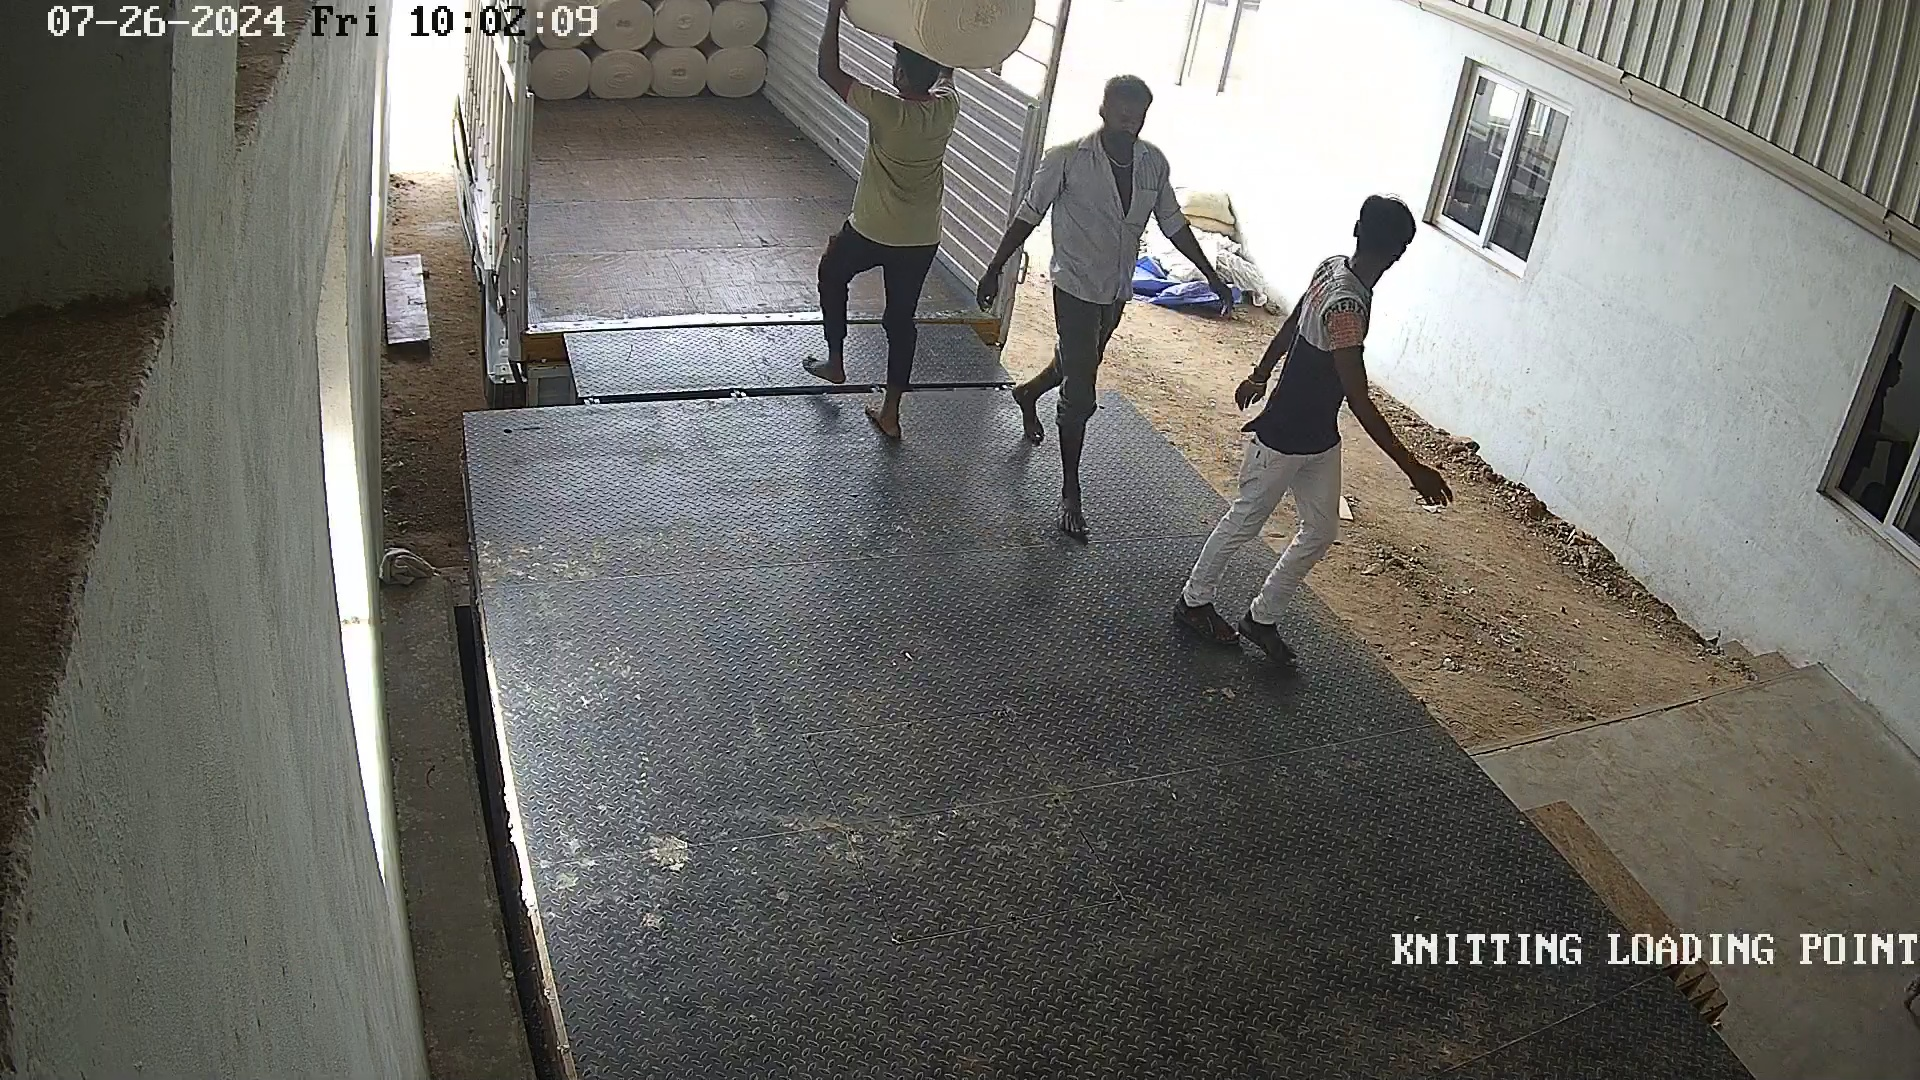bag: (814, 3, 1077, 71)
